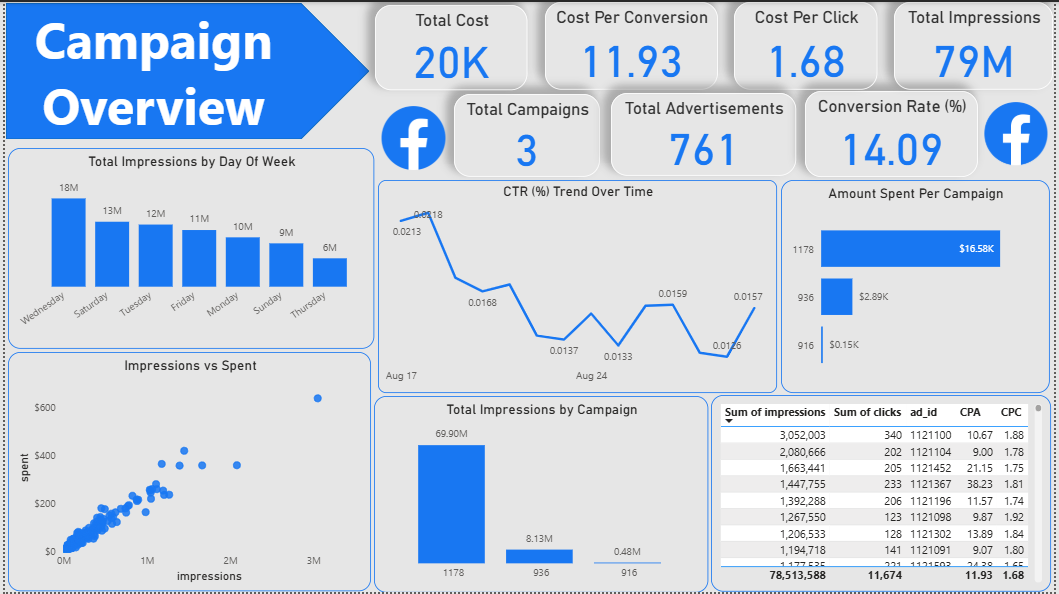

Layout of this report page (visuals, bound fields, positions):
{"tool":"powerbi","page":{"name":"Campaign Overview","canvas":[1280,720],"ordinal":0},"visuals":[{"type":"card","title":"Total Campaigns","fields":{"Values":["Count(data.campaign_id)"]},"box":[547.9,112.5,178.1,100.8],"z":0},{"type":"card","title":"Conversion Rate (%)","fields":{"Values":["data.Conversion Rate (%)"]},"box":[976.8,108.7,210.6,104.6],"z":1000},{"type":"card","title":"Cost Per Click","fields":{"Values":["data.CPC"]},"box":[889.8,0,175.2,107.3],"z":2000},{"type":"card","title":"Cost Per Conversion","fields":{"Values":["data.CPA"]},"box":[658.9,0,210.6,107.3],"z":3000},{"type":"card","title":"Total Impressions","fields":{"Values":["Sum(data.impressions)"]},"box":[1085.4,0,194.3,107.3],"z":4000},{"type":"clusteredColumnChart","title":"Total Impressions by Day Of Week","fields":{"Y":["Sum(data.impressions)"],"Category":["data.DayOfWeek"]},"box":[3.4,178.1,446.8,245.2],"z":5000},{"type":"clusteredBarChart","title":"Amount Spent Per Campaign","fields":{"Category":["data.campaign_id"],"Y":["Sum(data.spent)"]},"box":[947.4,216.7,327.6,260.4],"z":6000},{"type":"clusteredColumnChart","title":"Total Impressions by Campaign","fields":{"Category":["data.campaign_id"],"Y":["Sum(data.impressions)"]},"box":[450.2,480.4,408.2,240.2],"z":7000},{"type":"lineChart","title":"CTR (%) Trend Over Time","fields":{"Y":["data.CTR (%)"],"Category":["data.reporting_start.Variation.Date Hierarchy.Year","data.reporting_start.Variation.Date Hierarchy.Quarter","data.reporting_start.Variation.Date Hierarchy.Month","data.reporting_start.Variation.Date Hierarchy.Day"]},"box":[455.2,216.7,487.1,260.4],"z":8000},{"type":"tableEx","fields":{"Values":["Sum(data.impressions)","Sum(data.clicks)","data.ad_id","data.CPA","data.CPC"]},"box":[861.7,479.8,414.9,240.2],"z":9000},{"type":"card","title":"Total Advertisements","fields":{"Values":["Count(data.ad_id)"]},"box":[739,111.4,225.5,100.5],"z":10000},{"type":"shape","box":[1.7,1.7,443.5,166.3],"z":11000},{"type":"card","title":"Total Cost","fields":{"Values":["Sum(data.spent)"]},"box":[451.9,3.4,186.5,104.1],"z":12000},{"type":"scatterChart","title":"Impressions vs Spent","fields":{"X":["data.impressions"],"Y":["data.spent"]},"box":[3.4,427.7,443.5,292.3],"z":13000},{"type":"image","box":[451,122.3,93.7,88.3],"z":14000},{"type":"image","box":[1185.9,117.6,94.1,87.3],"z":15000}]}

Visuals, with their boxes in screenshot pixels (x1, y1, x2, y2), scaled from the page's 1280x720 canvas onto the 1059x594 screenshot:
"Total Campaigns" card: [x1=453, y1=93, x2=601, y2=176]
"Conversion Rate (%)" card: [x1=808, y1=90, x2=982, y2=176]
"Cost Per Click" card: [x1=736, y1=0, x2=881, y2=89]
"Cost Per Conversion" card: [x1=545, y1=0, x2=719, y2=89]
"Total Impressions" card: [x1=898, y1=0, x2=1058, y2=89]
"Total Impressions by Day Of Week" clusteredColumnChart: [x1=3, y1=147, x2=372, y2=349]
"Amount Spent Per Campaign" clusteredBarChart: [x1=784, y1=179, x2=1055, y2=394]
"Total Impressions by Campaign" clusteredColumnChart: [x1=372, y1=396, x2=710, y2=593]
"CTR (%) Trend Over Time" lineChart: [x1=377, y1=179, x2=780, y2=394]
tableEx - Sum(data.impressions) x Sum(data.clicks): [x1=713, y1=396, x2=1056, y2=593]
"Total Advertisements" card: [x1=611, y1=92, x2=798, y2=175]
shape: [x1=1, y1=1, x2=368, y2=139]
"Total Cost" card: [x1=374, y1=3, x2=528, y2=89]
"Impressions vs Spent" scatterChart: [x1=3, y1=353, x2=370, y2=593]
image: [x1=373, y1=101, x2=451, y2=174]
image: [x1=981, y1=97, x2=1058, y2=169]
